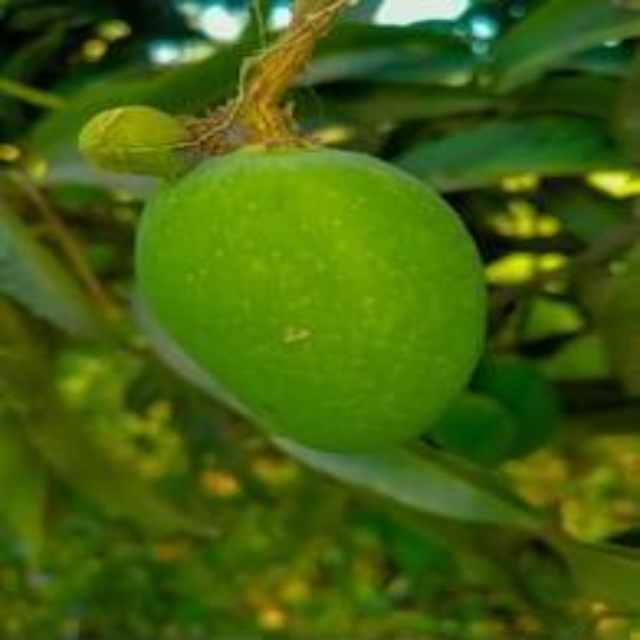mango: (135, 146, 486, 445)
